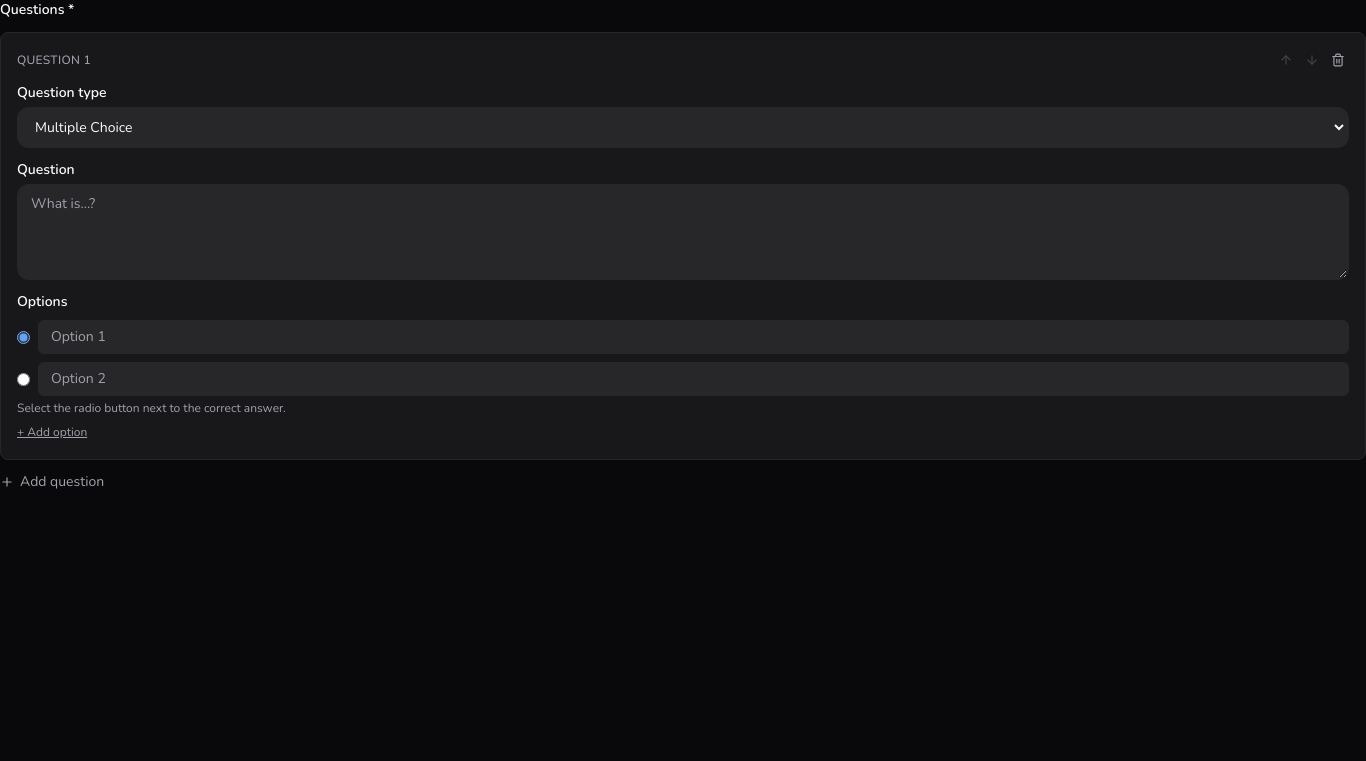
Test case: PracticeProblemAssignmentForm › adds a question when Add question is clicked
Click the button "Add question" at (52, 482), box [0,472,104,492]
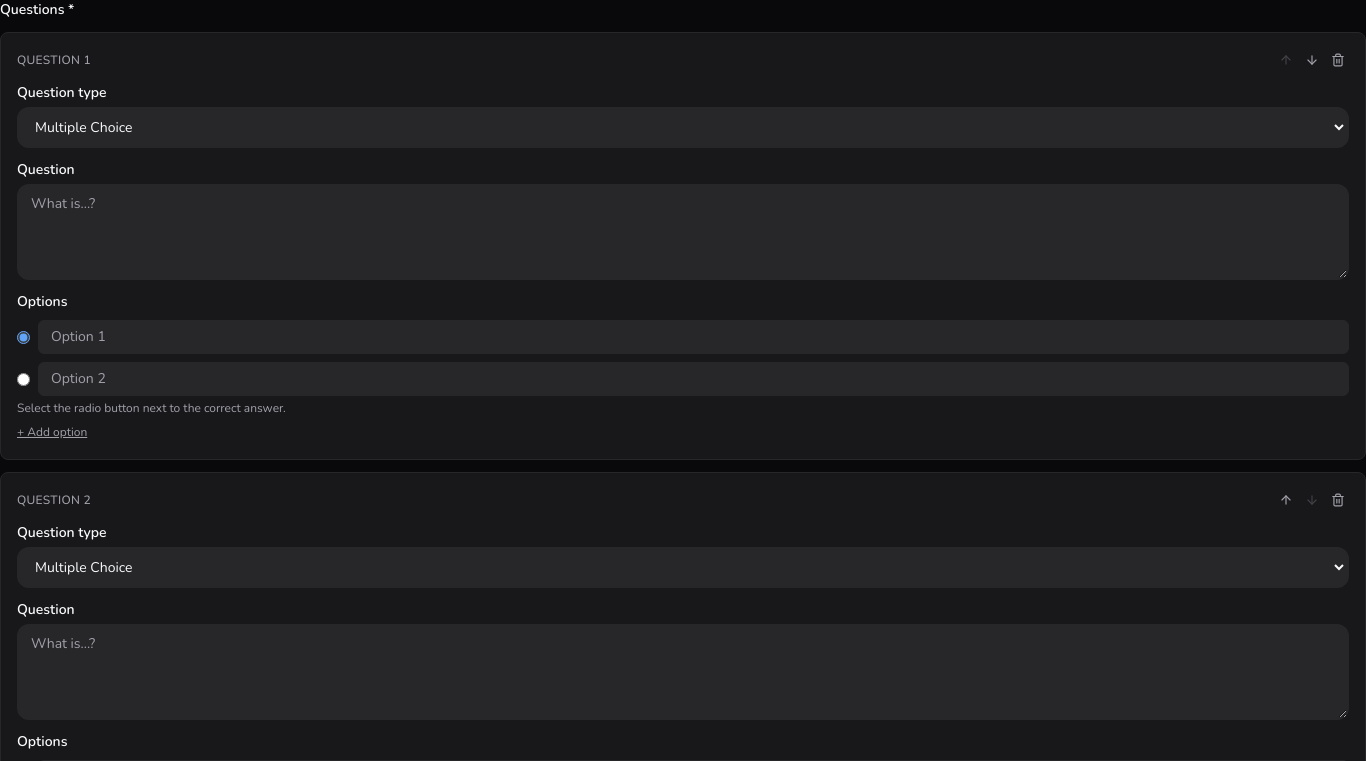
expect the text "Question 2" is shown: met, box [17,492,91,508]
